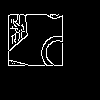O: (26, 21, 86, 81)
